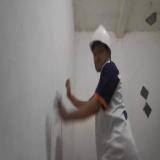Helmet: (90, 24, 112, 58)
